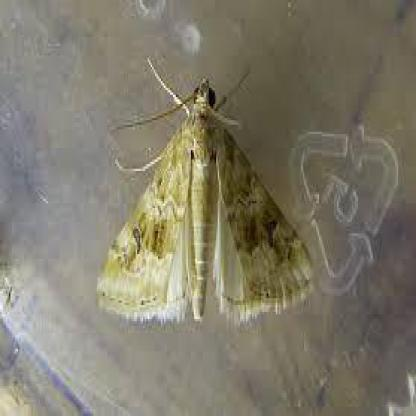Hellula undalis: (89, 46, 323, 328)
